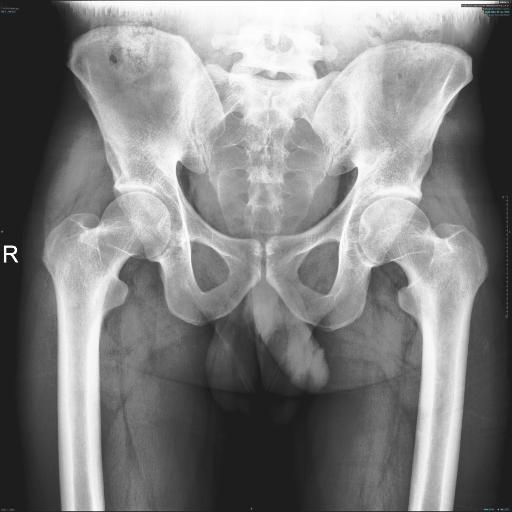normal: (42, 191, 171, 374), (359, 197, 489, 377)
